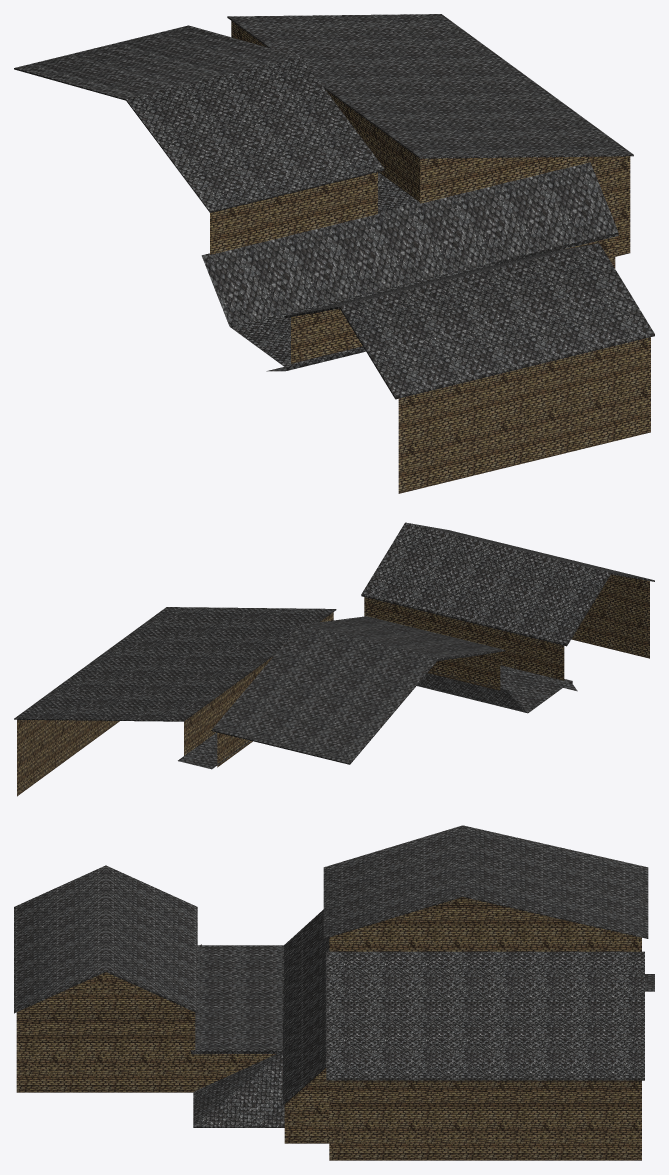
Rendered from mansion_roof.DAE.
3 views of the same model, one above another, from view 1: azimuth 30°, elevation 25°; view 2: azimuth 150°, elevation 25°; view 3: azimuth 270°, elevation 25° (orthographic). The views are drawn at different scales.
Parts seen in each view (by area): view 1: Object001, Box001; view 2: Object001, Box001; view 3: Object001, Box001.
Boxes of the visible parts, <box> form: Object001: <box>14,14,654,399</box>; Box001: <box>210,21,650,493</box>; Object001: <box>14,522,654,769</box>; Box001: <box>17,574,649,796</box>; Object001: <box>14,825,654,1127</box>; Box001: <box>16,897,641,1160</box>.
Bounding box in the file's own units: 38 × 57.41 × 16.26.
